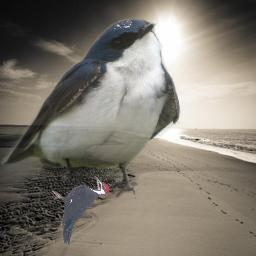Swallow: (1, 18, 182, 199)
Woodpecker: (51, 176, 111, 245)
